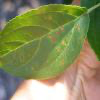Apple rust leaf: (0, 2, 93, 80)
